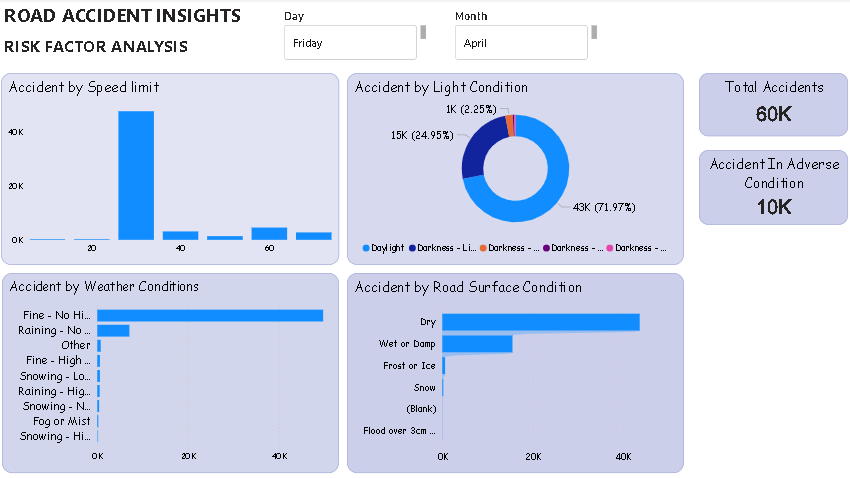

What the dashboard file says about the page in this screenshot:
{"tool":"powerbi","page":{"name":"Page 3","canvas":[1280,720],"ordinal":2},"visuals":[{"type":"textbox","box":[10,0,726.2,47.5],"z":0},{"type":"textbox","box":[10.3,48.5,338,48.5],"z":1000},{"type":"card","title":"Total Accidents","fields":{"Values":["Accident Data Analysis.Total Accidents"]},"box":[1035.9,110.2,218.9,92.6],"z":2000},{"type":"clusteredBarChart","title":"Accident by Weather Conditions","fields":{"Category":["Accident Data Analysis.Weather Condition"],"Y":["Accident Data Analysis.Total Accidents"]},"box":[11.8,404.1,495.2,293.9],"z":6000},{"type":"card","title":"Accident In Adverse Condition","fields":{"Values":["Accident Data Analysis.Bad_Weather Accidents"]},"box":[1035.9,223.3,218.9,110.2],"z":8000},{"type":"donutChart","title":"Accident by Light Condition","fields":{"Category":["Accident Data Analysis.Light Condition"],"Y":["Accident Data Analysis.Total Accidents"]},"box":[518.7,110.2,495.2,282.1],"z":8001},{"type":"barChart","title":"Accident by Road Surface Condition","fields":{"Category":["Accident Data Analysis.Road Surface Condition"],"Y":["Accident Data Analysis.Total Accidents"]},"box":[519,404,495,294],"z":8002},{"type":"columnChart","title":"Accident by Speed limit","fields":{"Category":["Accident Data Analysis.Speed_limit"],"Y":["Accident Data Analysis.Total Accidents"]},"box":[10.3,110.2,496.7,282.1],"z":8003},{"type":"advancedSlicerVisual","title":"Day ","fields":{"Values":["Accident Data Analysis.Day Name"]},"box":[421.7,16.2,218.9,80.8],"z":8004},{"type":"advancedSlicerVisual","title":"Month","fields":{"Values":["Accident Data Analysis.Month"]},"box":[673,16.2,218.9,80.8],"z":8005}]}

Visuals, with their boxes in screenshot pixels (x1, y1, x2, y2), scaled from the page's 1280x720 canvas onto the 850x478 screenshot:
textbox: <bbox>7, 0, 489, 32</bbox>
textbox: <bbox>7, 32, 231, 64</bbox>
"Total Accidents" card: <bbox>688, 73, 833, 135</bbox>
"Accident by Weather Conditions" clusteredBarChart: <bbox>8, 268, 337, 463</bbox>
"Accident In Adverse Condition" card: <bbox>688, 148, 833, 221</bbox>
"Accident by Light Condition" donutChart: <bbox>344, 73, 673, 260</bbox>
"Accident by Road Surface Condition" barChart: <bbox>345, 268, 673, 463</bbox>
"Accident by Speed limit" columnChart: <bbox>7, 73, 337, 260</bbox>
"Day " advancedSlicerVisual: <bbox>280, 11, 425, 64</bbox>
"Month" advancedSlicerVisual: <bbox>447, 11, 592, 64</bbox>
